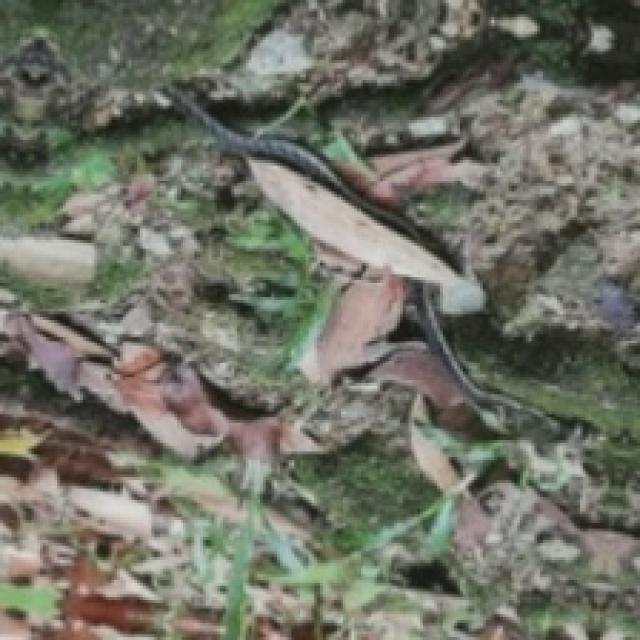king cobra: (0, 89, 503, 460), (166, 86, 531, 420), (197, 186, 320, 340)
